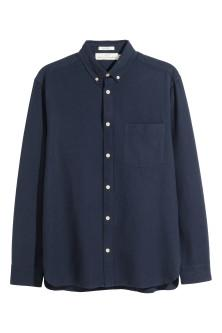teeshirt: (5, 34, 214, 295)
